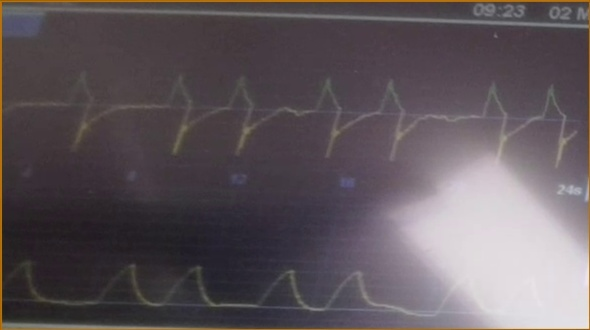Ineffective_effort Flow: (4, 61, 576, 169)
Ineffective_effort Volume: (4, 241, 506, 319)
